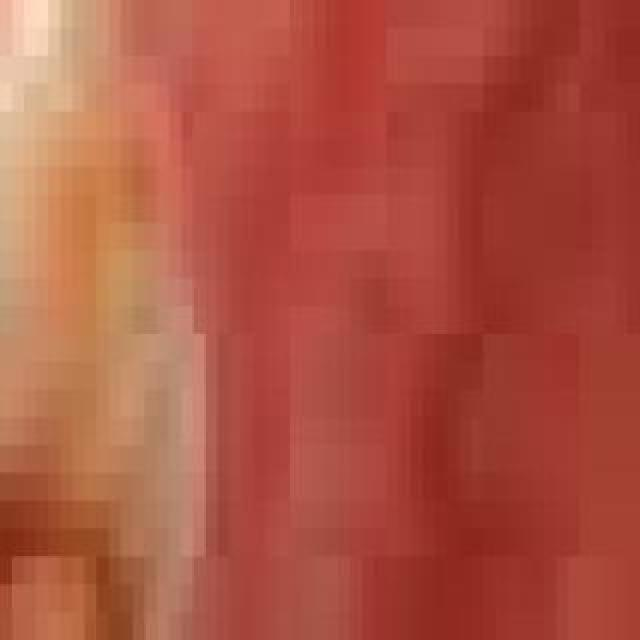cavities: (0, 222, 132, 638)
